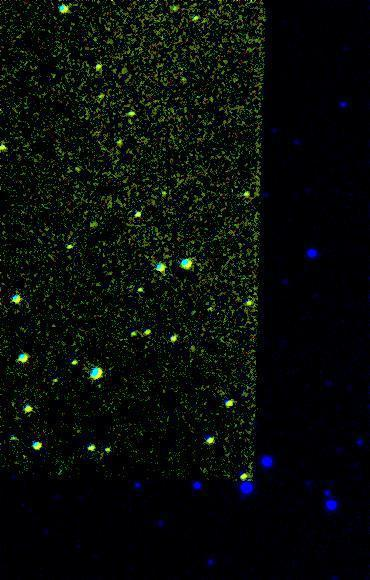star: (179, 1, 209, 31)
